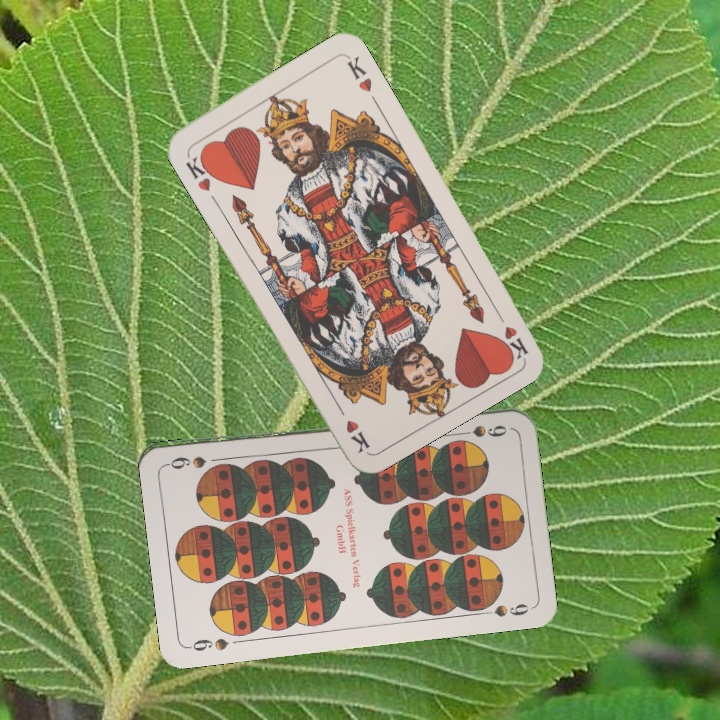HK: (490, 304, 530, 361), (181, 149, 219, 194)
S9: (451, 421, 510, 439), (184, 634, 231, 654)
